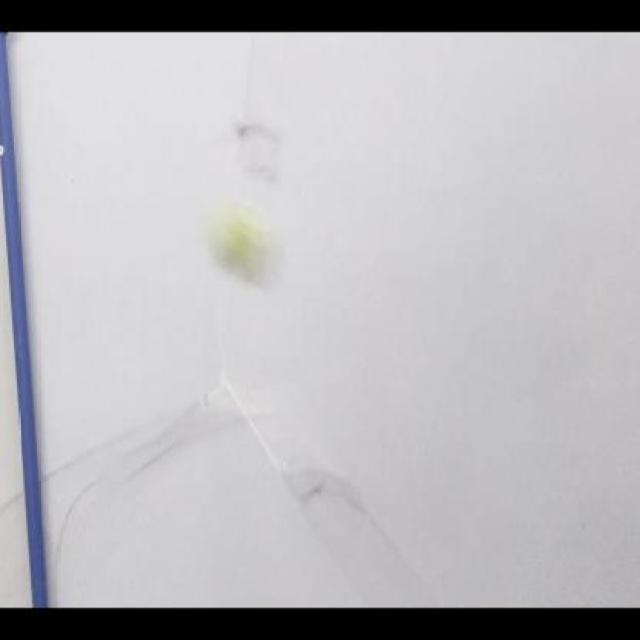baseball: (202, 200, 282, 288)
